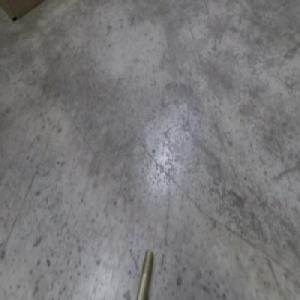Bolt: (134, 247, 153, 300)
